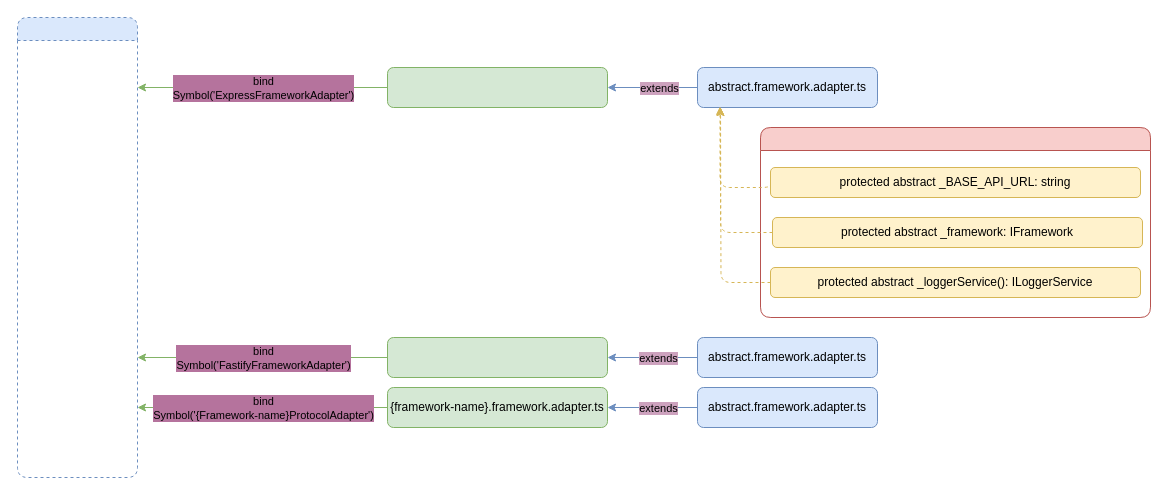
Image size: 1168x495. Some labels were removed from this diagram. Each missing label, with the box of its shape:
express.framework.adapter.ts: (386, 66, 608, 108)
fastify.framework.adapter.ts: (386, 336, 608, 378)
ioc.core.ts: (16, 16, 138, 478)
methods and properties: (760, 126, 1150, 318)
